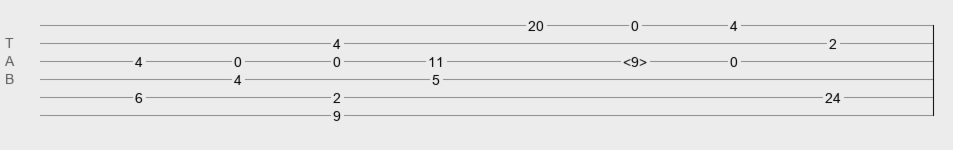0: (234, 54, 242, 64), (333, 54, 341, 64), (631, 18, 639, 28), (730, 54, 738, 64)
11: (428, 54, 444, 64)
2: (333, 90, 341, 100), (829, 36, 837, 46)
20: (528, 18, 544, 28)
24: (825, 90, 841, 100)
4: (135, 54, 143, 64), (234, 72, 242, 82), (333, 36, 341, 46), (730, 18, 738, 28)
5: (432, 72, 440, 82)
6: (135, 90, 143, 100)
9: (333, 108, 341, 118)
harmonic: (623, 54, 647, 64)
